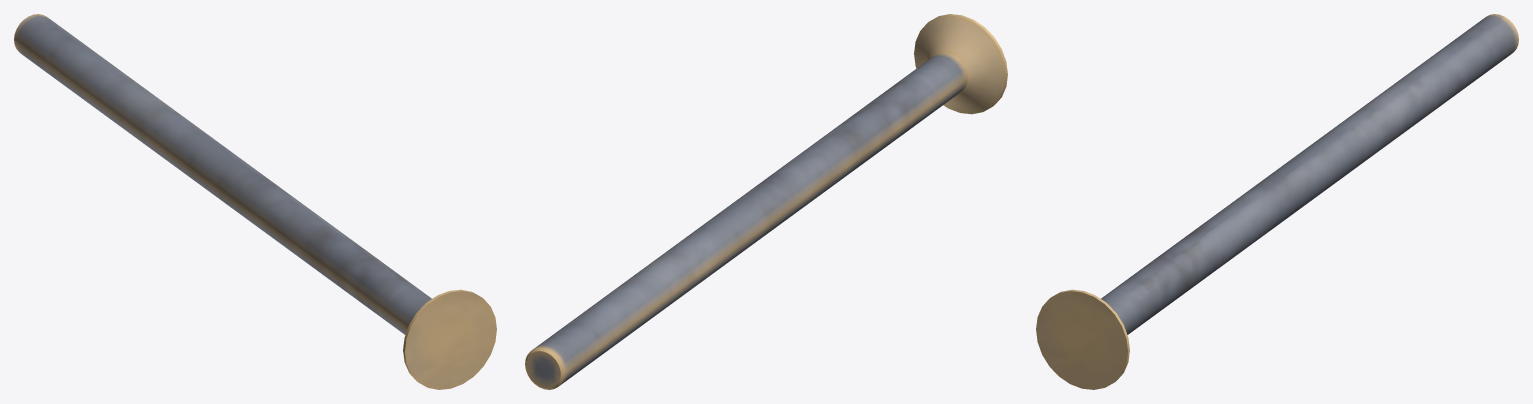
Rendered from SM_Chevallier_01d.fbx.
3 renders of one model, left to right at view 1: azimuth 30°, elevation 25°; view 2: azimuth 150°, elevation 25°; view 3: azimuth 330°, elevation 25°, orthographic.
Parts seen in each view (by area): view 1: SM_Chevallier_01d_LOD0; view 2: SM_Chevallier_01d_LOD0; view 3: SM_Chevallier_01d_LOD0.
Part boxes in pixels (box(x1,y1,x2,y2)): SM_Chevallier_01d_LOD0: box(14, 14, 496, 389); SM_Chevallier_01d_LOD0: box(525, 14, 1007, 389); SM_Chevallier_01d_LOD0: box(1036, 14, 1518, 389).
Size of the model in its own units: 0.8869 by 6.98 by 0.8869.
